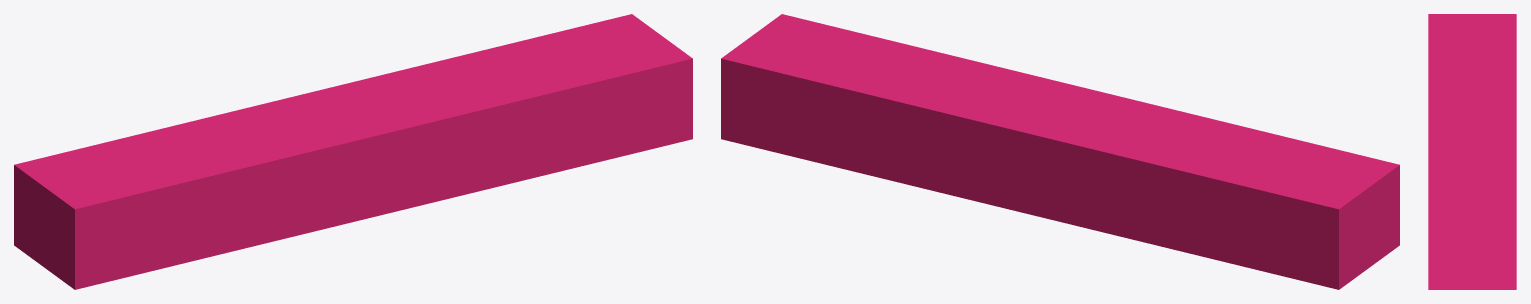
Rendered from barrel_02.fbx.
3 renders of one model, left to right at view 1: azimuth 30°, elevation 25°; view 2: azimuth 150°, elevation 25°; view 3: azimuth 270°, elevation 25°, orthographic. The views are drawn at different scales.
Visible parts, largest first — view 1: barrel_1.001; view 2: barrel_1.001; view 3: barrel_1.001.
Part boxes in pixels (x1=…): barrel_1.001: x1=14, y1=14, x2=692, y2=289; barrel_1.001: x1=721, y1=14, x2=1399, y2=289; barrel_1.001: x1=1428, y1=14, x2=1516, y2=289.
Bounding box in the file's own units: 820 × 102 × 140.
